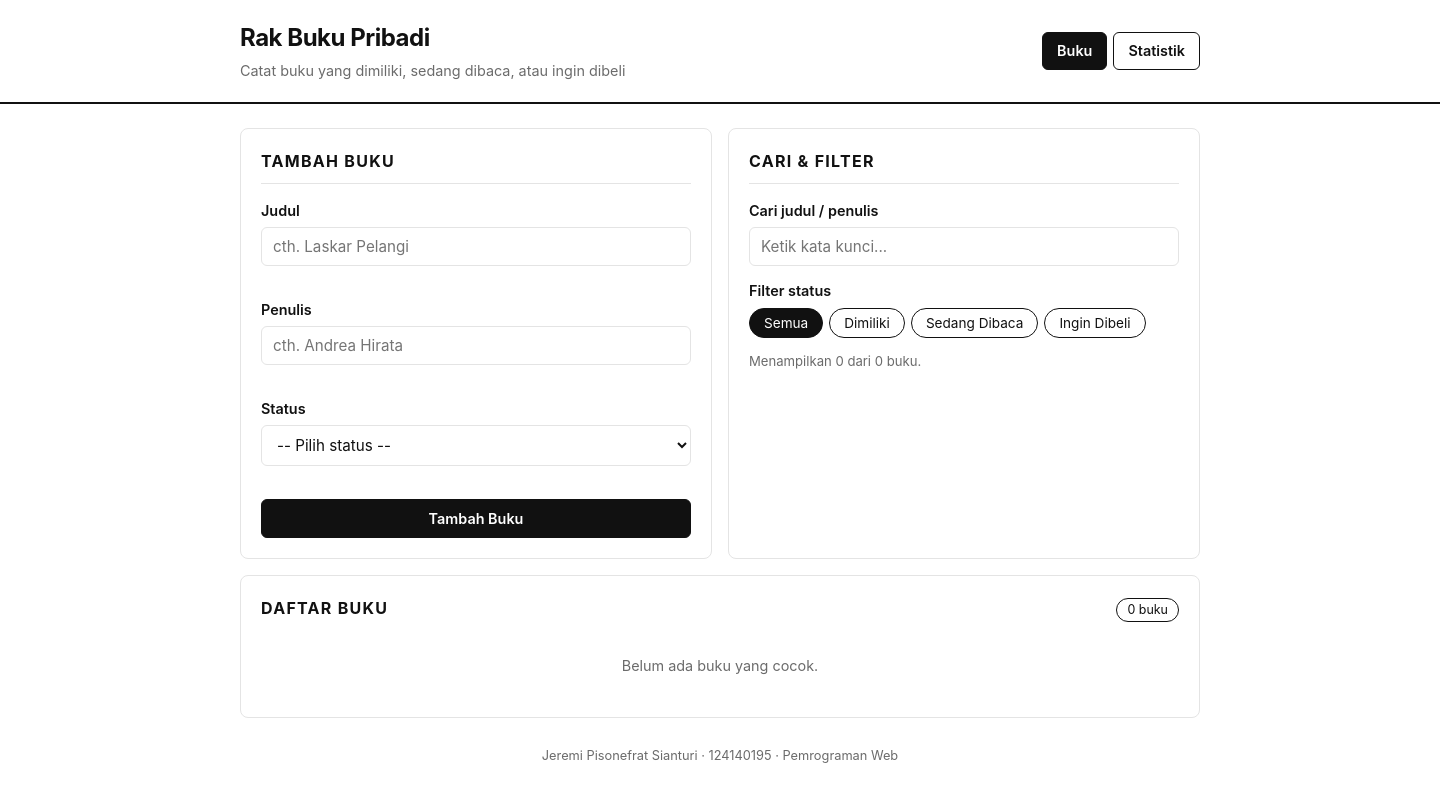
Scenario: App (integrasi) › navigasi ke halaman statistik
The width and height of the screenshot is (1440, 810).
Type "Satu" into the field labelled "Judul". click: (476, 247)
box: [261,227,691,266]
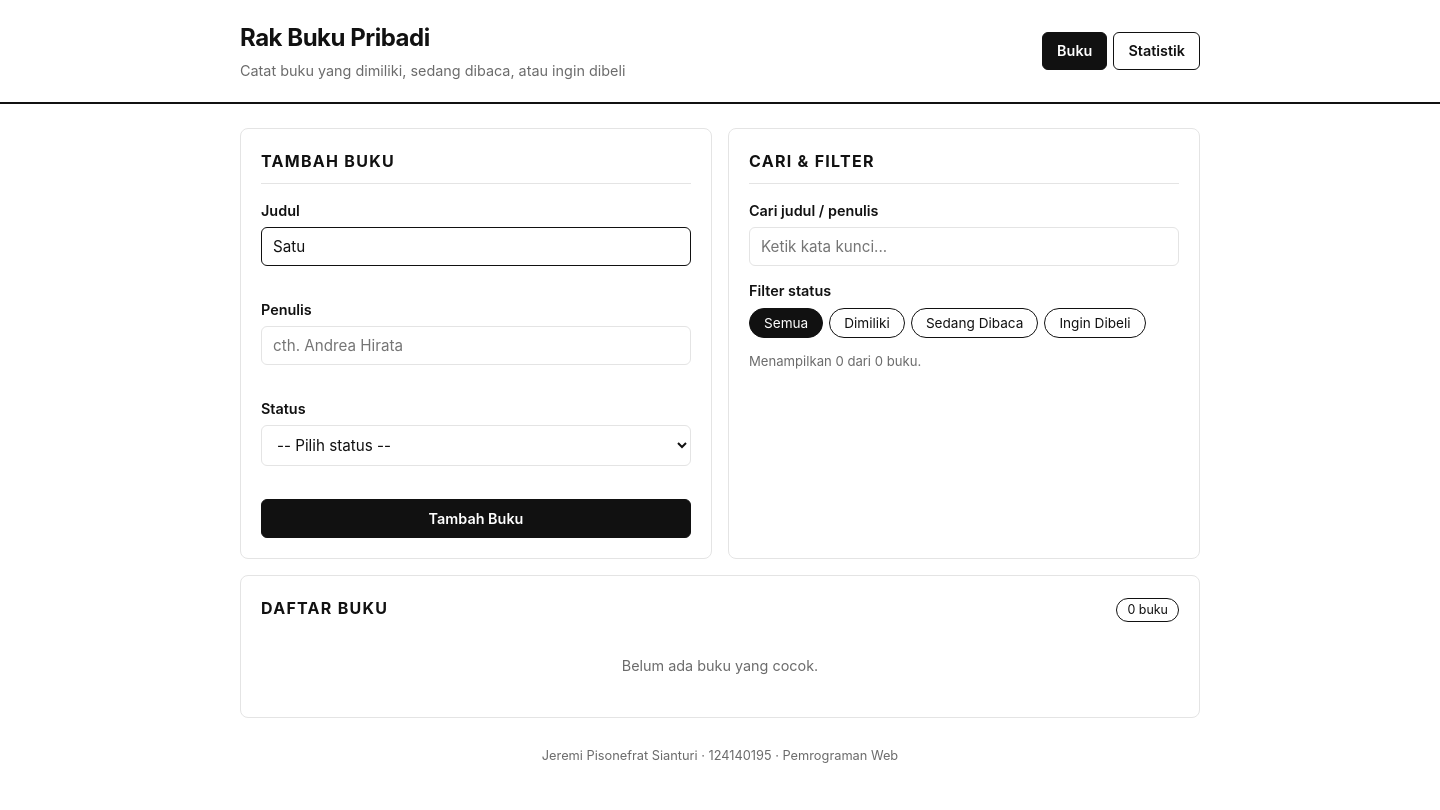
Type "A" into the field labelled "Penulis". click: (476, 346)
box: [261,326,691,365]
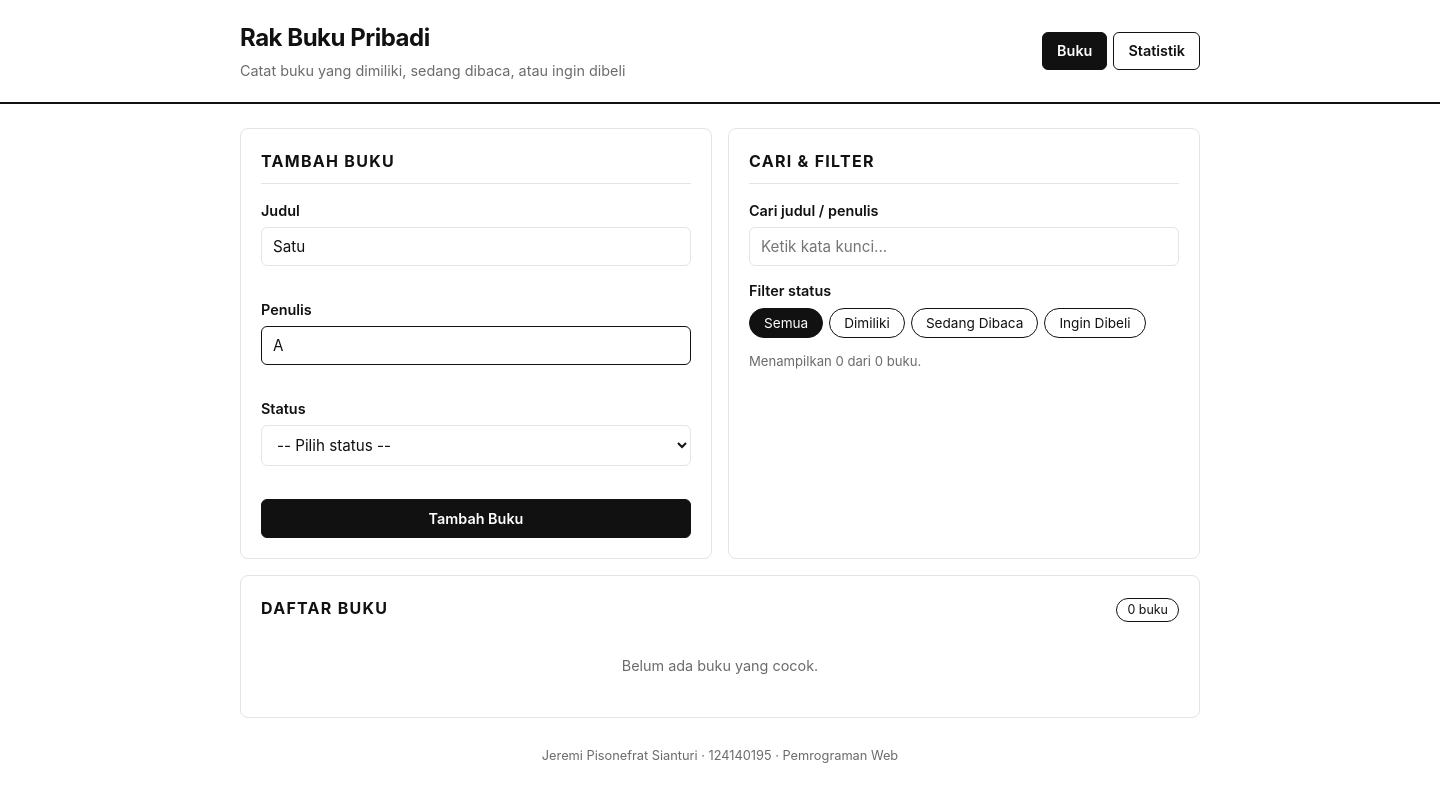
Select "Sedang Dibaca" in the dropdown labelled "Status". click: (476, 446)
box: [261,425,691,466]
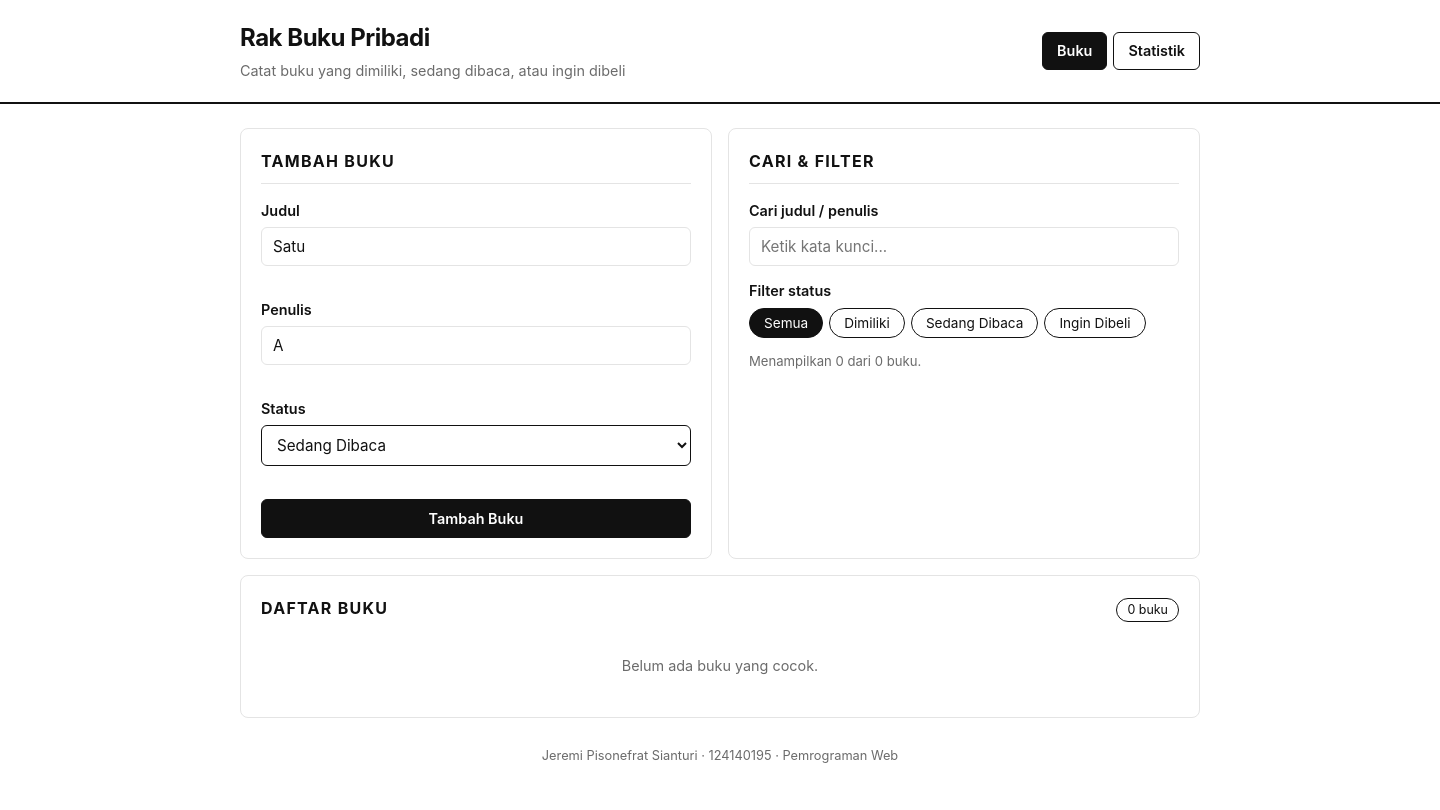
Click the button "Tambah Buku". click: click(476, 518)
box: [261,499,691,538]
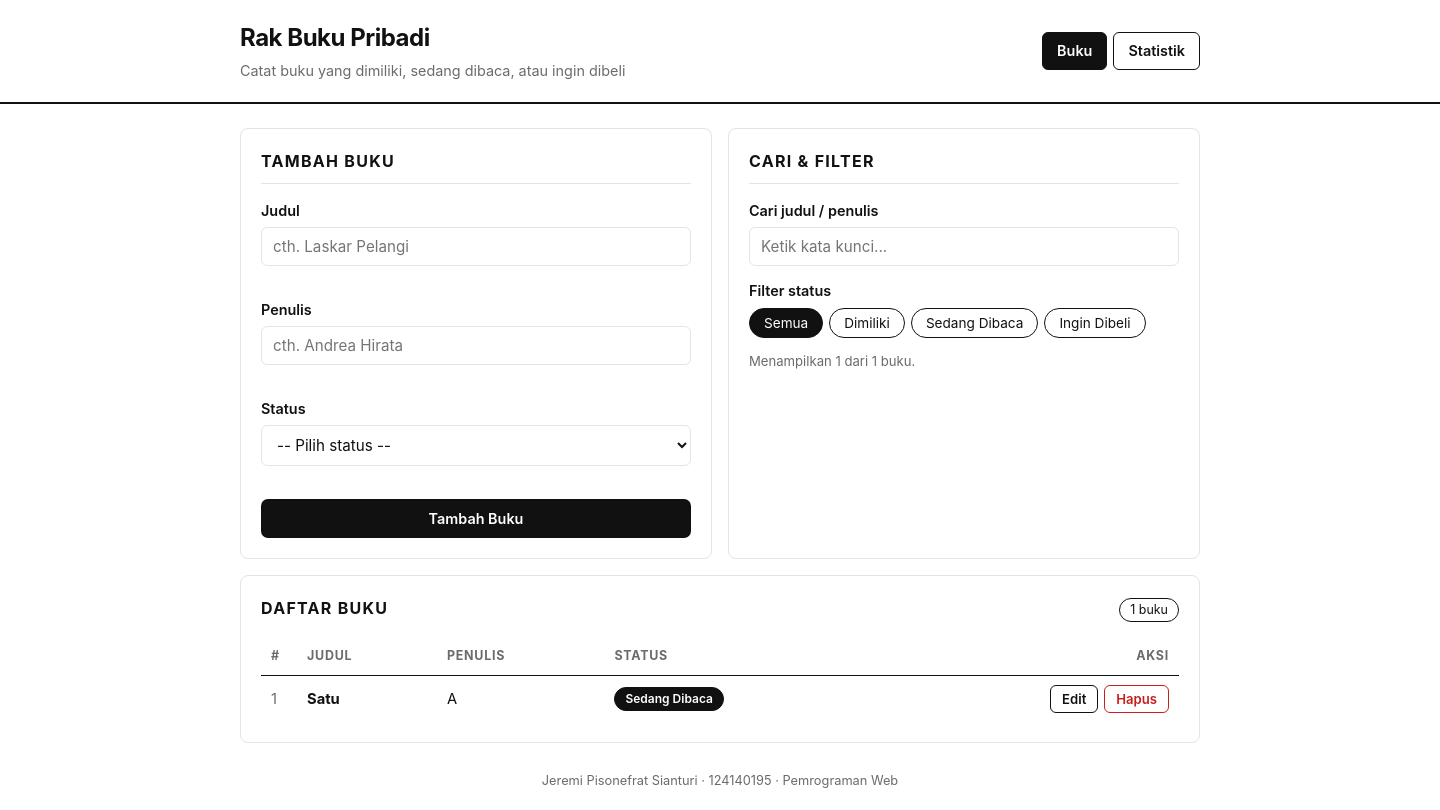
Click the link "Statistik". click: click(1157, 51)
box: [1113,32,1200,70]
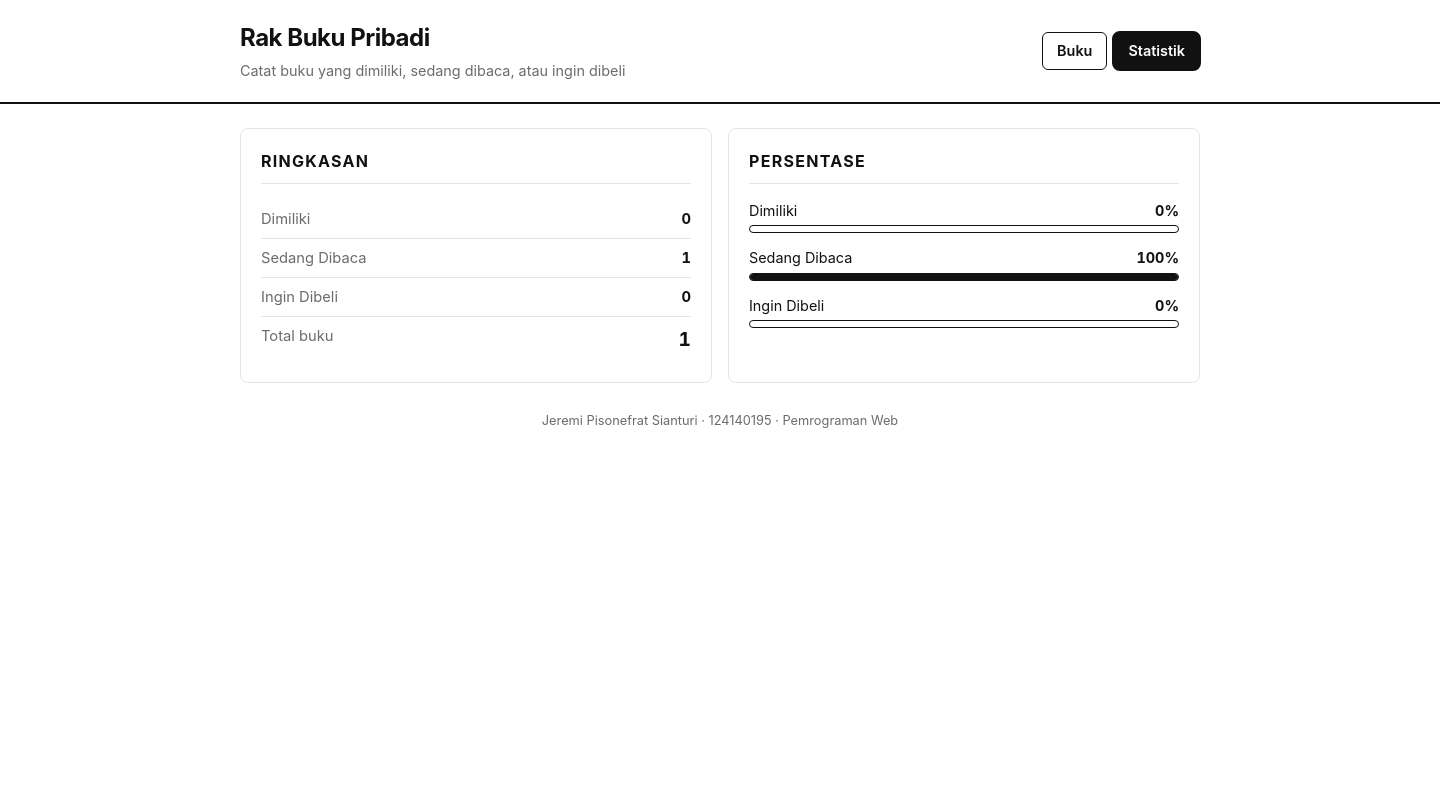
Check: the text "1" in the row of "Total buku" is shown, box [679,327,691,351]
Check: the heading "Ringkasan" is shown, box [261,149,691,184]
